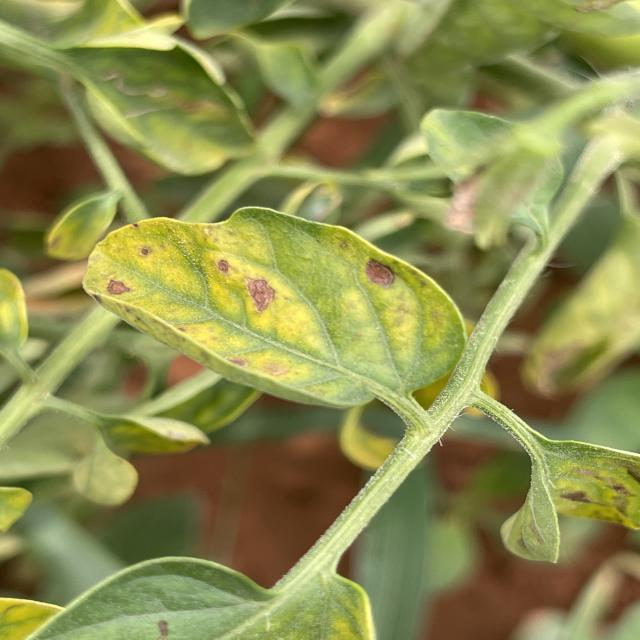tomato_early blight: (84, 208, 479, 412), (38, 554, 372, 640), (60, 34, 262, 171), (413, 100, 572, 246), (521, 226, 640, 396), (504, 428, 640, 564)
